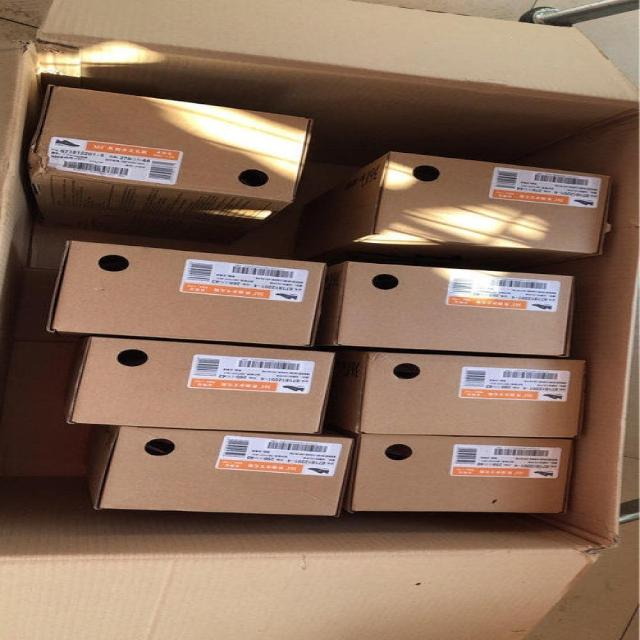box: (28, 84, 315, 245), (293, 151, 613, 268), (44, 240, 330, 348), (61, 336, 337, 434), (315, 260, 575, 357), (83, 425, 357, 517), (326, 351, 586, 438), (347, 434, 575, 514)
